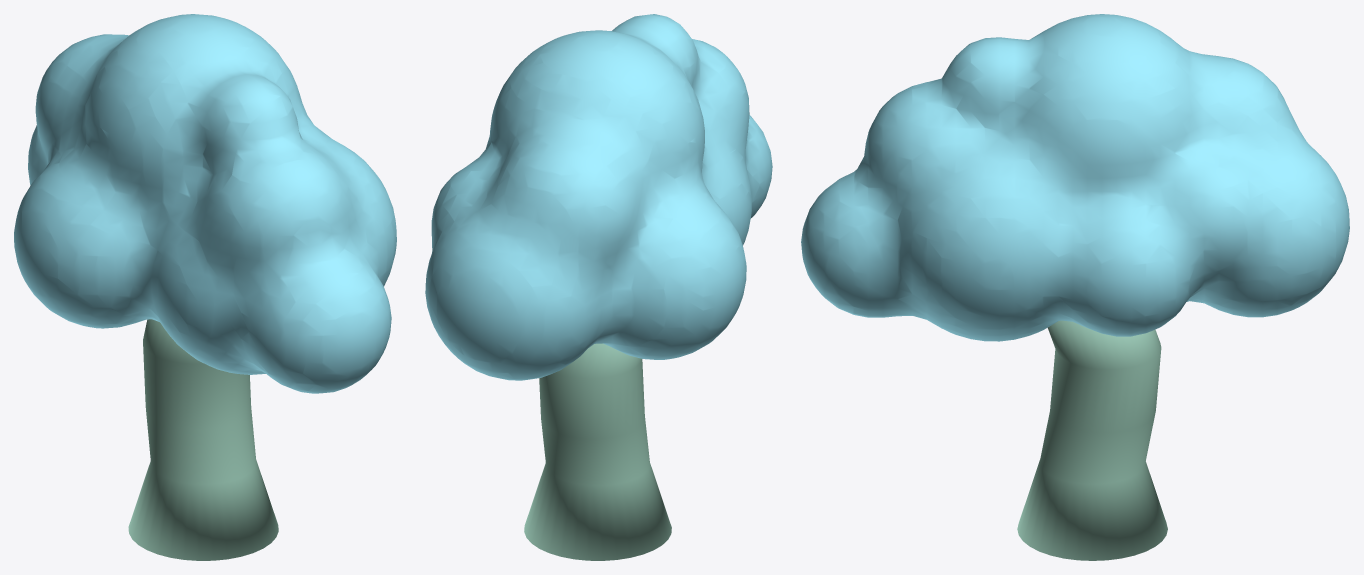
The model's file is tree.fbx.
3 renders of one model, left to right at view 1: azimuth 30°, elevation 25°; view 2: azimuth 150°, elevation 25°; view 3: azimuth 270°, elevation 25°, orthographic.
Parts seen in each view (by area): view 1: Mball, Cylinder; view 2: Mball, Cylinder; view 3: Mball, Cylinder.
Part boxes in pixels (x1,y1,x2,y2): Mball: (14,14,396,393); Cylinder: (128,319,278,560); Mball: (425,14,772,380); Cylinder: (524,343,671,560); Mball: (801,14,1349,341); Cylinder: (1017,320,1167,560).
Bounding box in the file's own units: 646 × 1047 × 1036.
